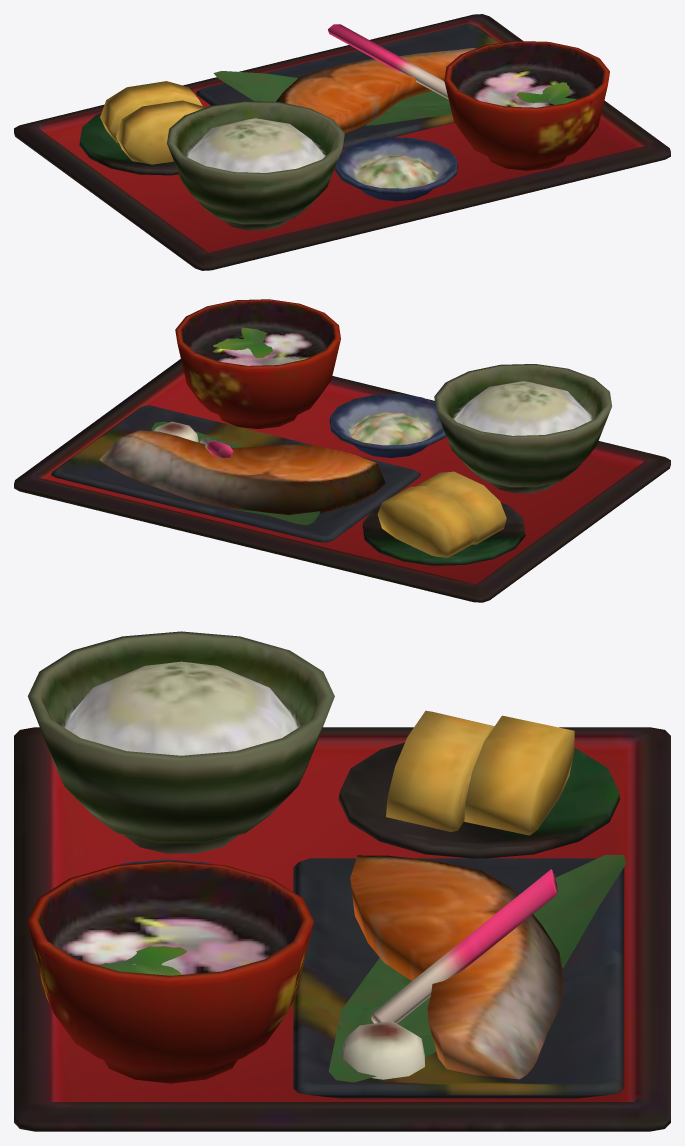
3 views of the same model, one above another, from view 1: azimuth 30°, elevation 25°; view 2: azimuth 150°, elevation 25°; view 3: azimuth 270°, elevation 25° (orthographic). The views are drawn at different scales.
Bounding box in the file's own units: 9.17 × 1.77 × 6.43.
1 material, 1 textured.
